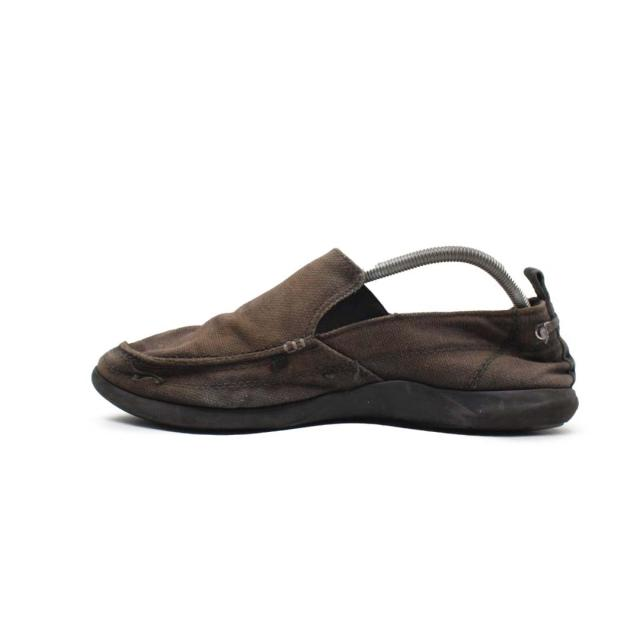heel: (493, 267, 577, 396)
midsole: (90, 369, 580, 437)
uppersole: (95, 249, 501, 409)
